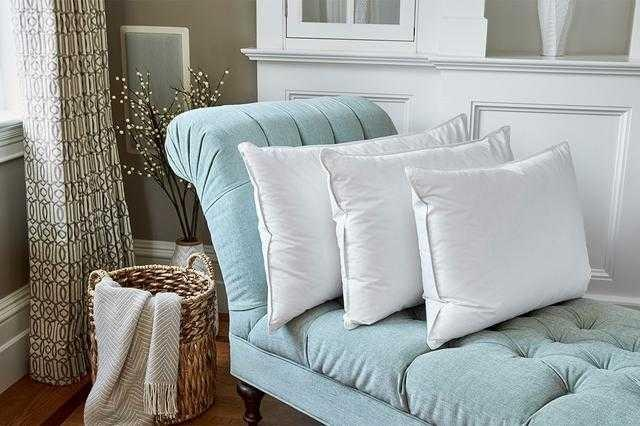pillow: (235, 134, 480, 334), (319, 124, 515, 330), (402, 139, 592, 350)
